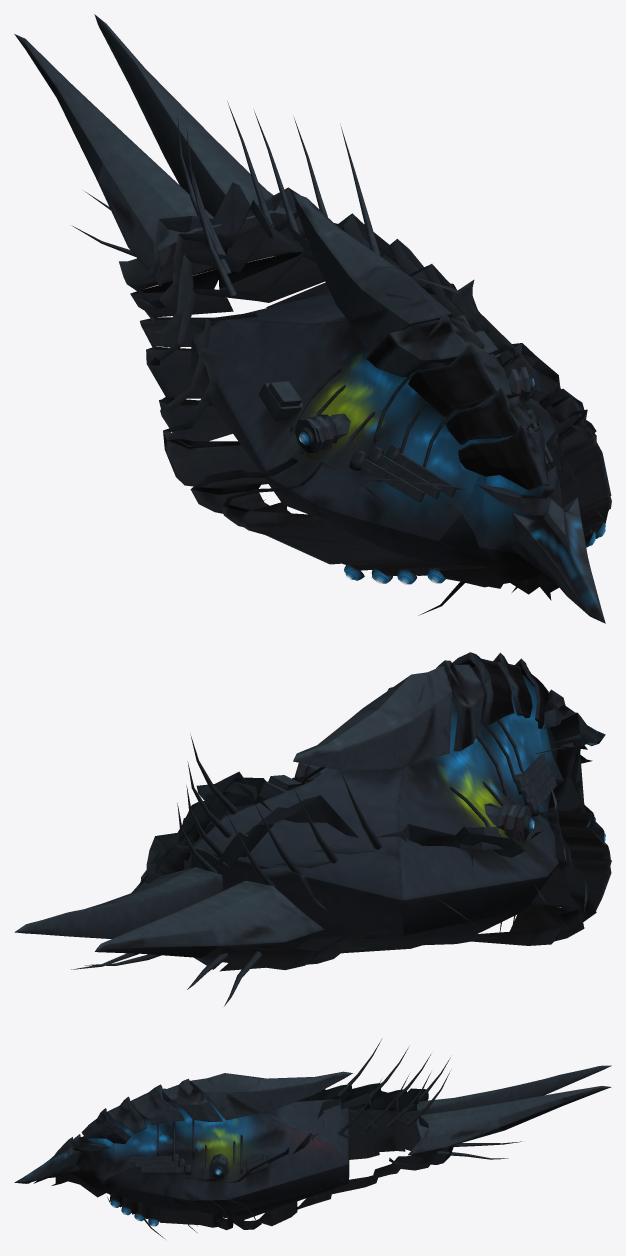
Rendered from act01_prop01_cruiser.fbx.
3 views of the same model, one above another, from view 1: azimuth 30°, elevation 25°; view 2: azimuth 150°, elevation 25°; view 3: azimuth 270°, elevation 25° (orthographic). The views are drawn at different scales.
Visible parts, largest first — view 1: polySurface952; view 2: polySurface952; view 3: polySurface952.
Part boxes in pixels (x1=…): polySurface952: x1=14, y1=14, x2=611, y2=623; polySurface952: x1=14, y1=652, x2=611, y2=1006; polySurface952: x1=14, y1=1038, x2=611, y2=1239.
Bounding box in the file's own units: 3.7 × 2.92 × 9.16.
